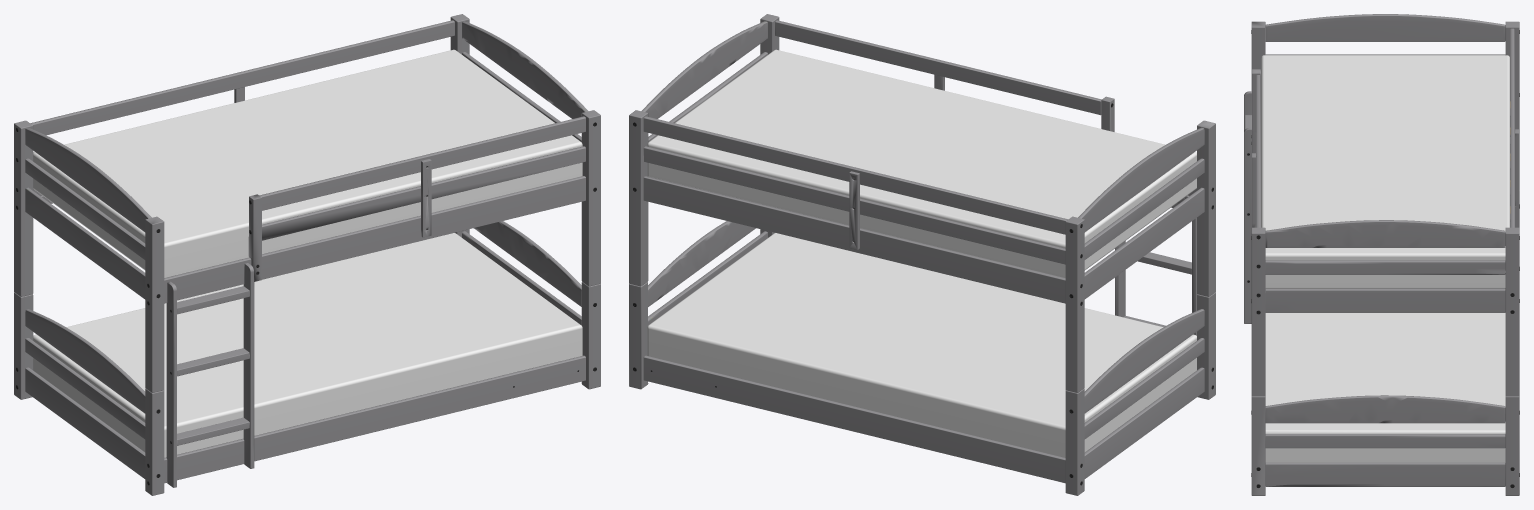
Rendered from B07RGR6XYT.glb.
3 renders of one model, left to right at view 1: azimuth 30°, elevation 25°; view 2: azimuth 150°, elevation 25°; view 3: azimuth 270°, elevation 25°, orthographic. The views are drawn at different scales.
Parts seen in each view (by area): view 1: RootNode; view 2: RootNode; view 3: RootNode.
Part boxes in pixels (box(x1,y1,x2,y2)): RootNode: box(14, 14, 600, 495); RootNode: box(629, 14, 1215, 495); RootNode: box(1244, 14, 1519, 495).
Size of the model in its own units: 2.01 by 1.21 by 1.11.
1 material, 1 textured.
